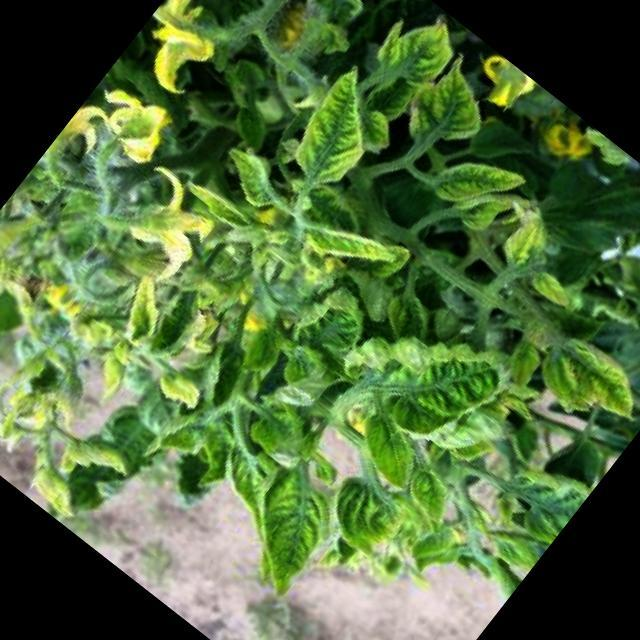Tomato yellow virus leaf: (331, 292, 507, 463), (216, 454, 354, 600), (276, 63, 402, 199), (521, 323, 640, 451), (392, 44, 512, 168), (476, 438, 594, 556), (364, 0, 469, 102), (198, 435, 300, 537), (339, 402, 442, 502), (426, 136, 526, 235), (284, 275, 380, 373), (300, 200, 398, 292), (318, 470, 409, 560), (99, 274, 185, 362), (259, 339, 342, 423), (239, 392, 322, 473), (176, 168, 262, 245), (139, 398, 218, 479), (210, 139, 288, 215), (228, 317, 294, 387), (491, 208, 552, 275)
